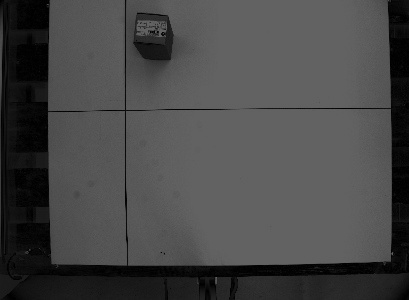b2: (130, 9, 175, 63)
